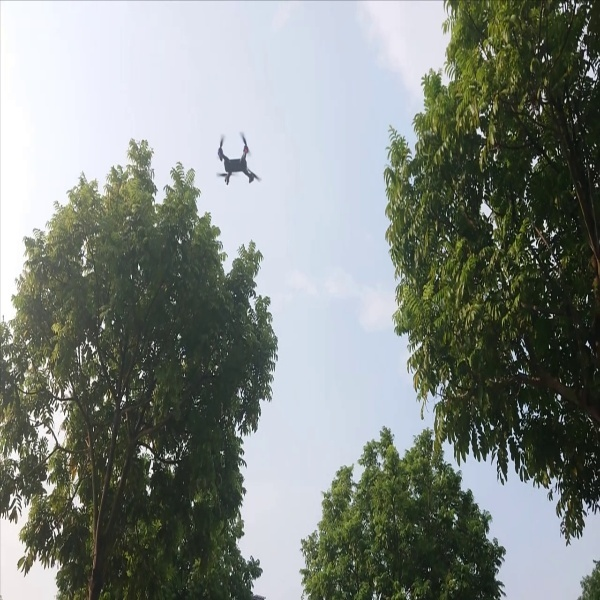drone: (208, 128, 271, 189)
